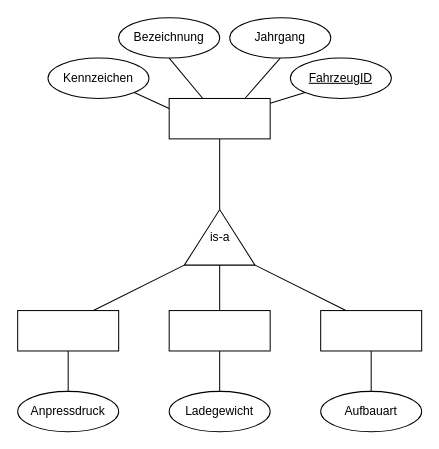
Some shapes in this 439 by 449 pixel diagram are drawn without their labels. Here are the shapes that lost their labels. From the top down, the centre of each, then its label:
(219,118): Fahrzeug
(68,330): Sportwagen
(219,330): Lastwagen
(371,330): Motorad
